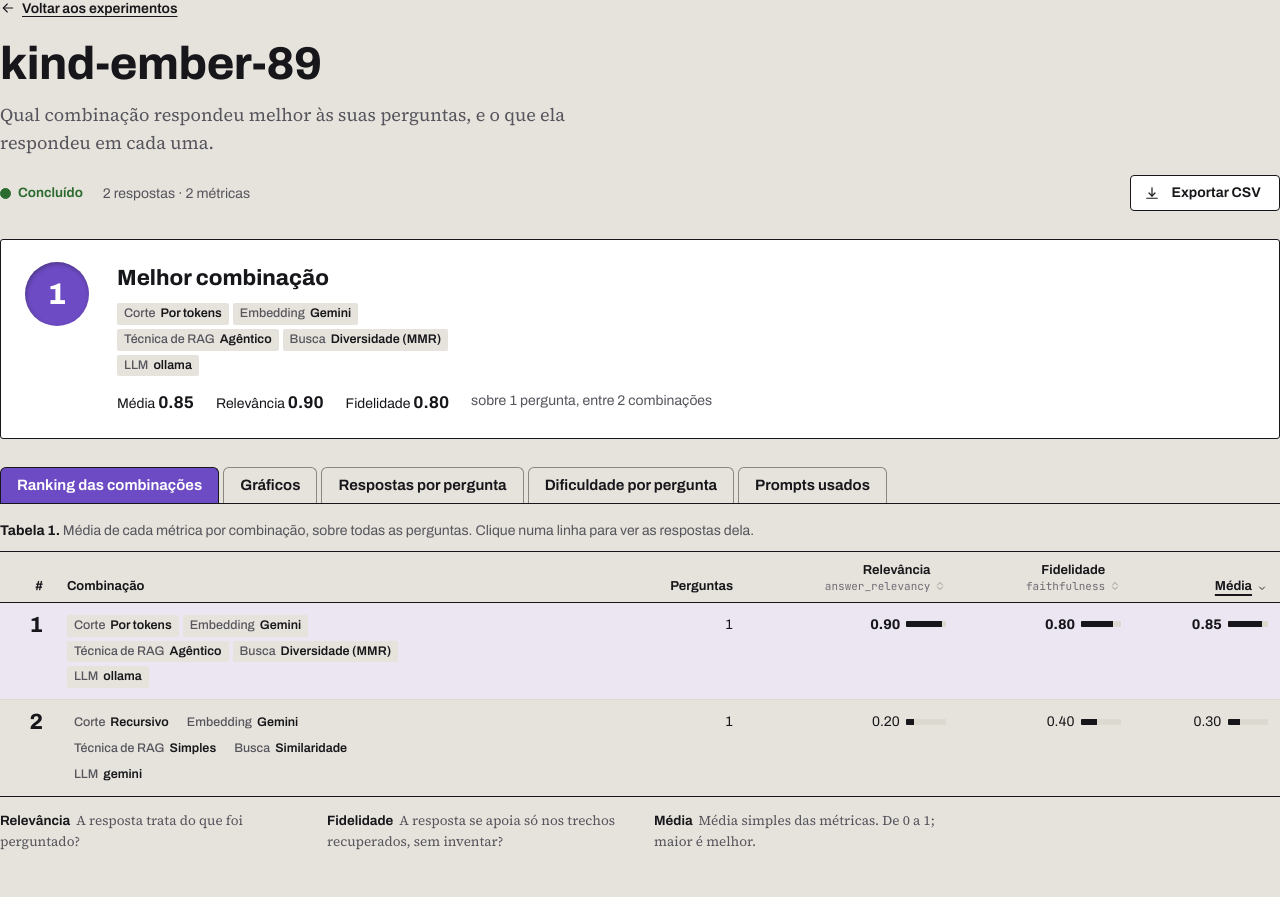
Test: ExperimentDetailPage › opens a drawer with full pergunta and resposta when a row is clicked
The image size is (1280, 897).
Click the tab "Respostas por pergunta" at (422, 485), box [321,467,524,503]
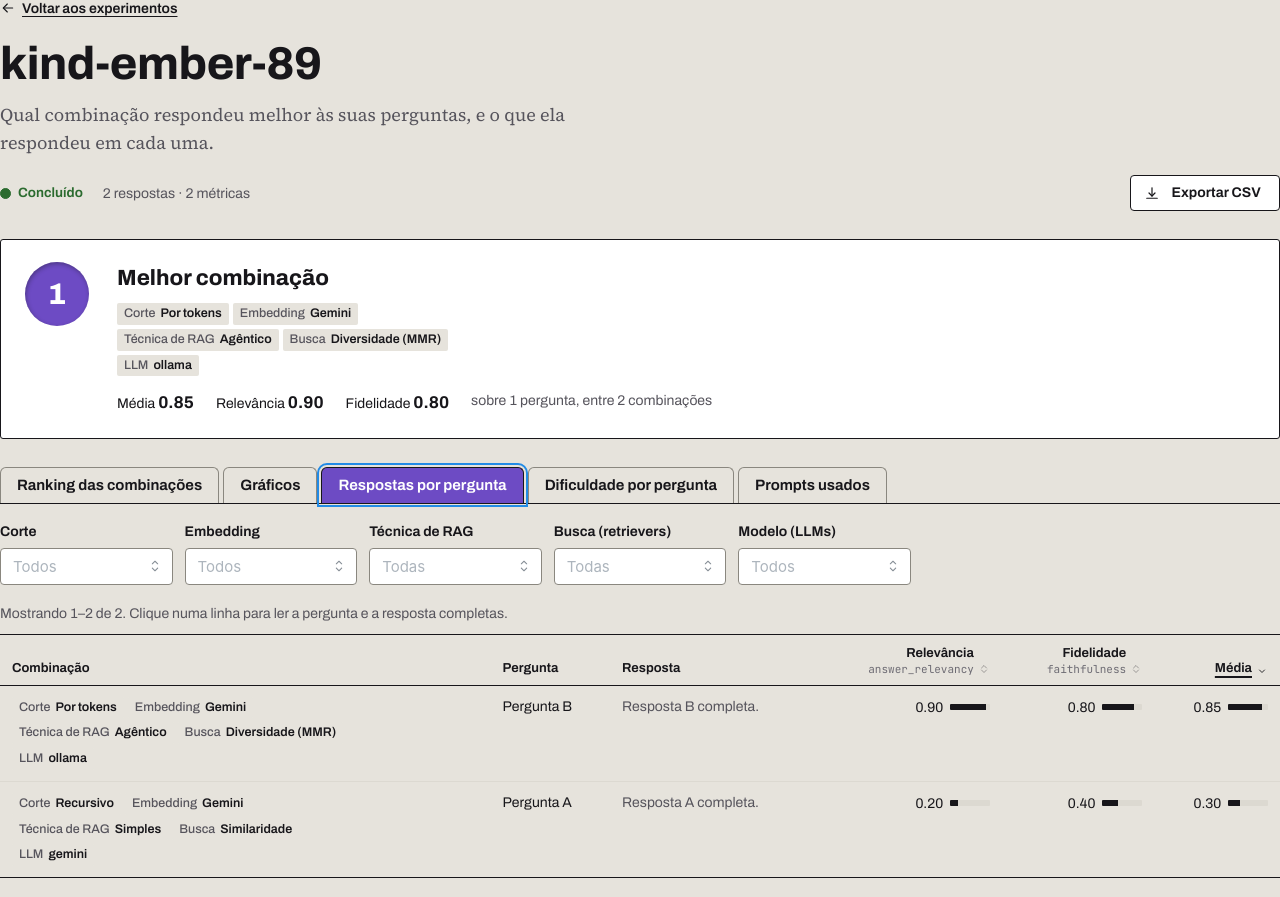
Click the button "Pergunta A" at (537, 803), box [503,793,572,812]
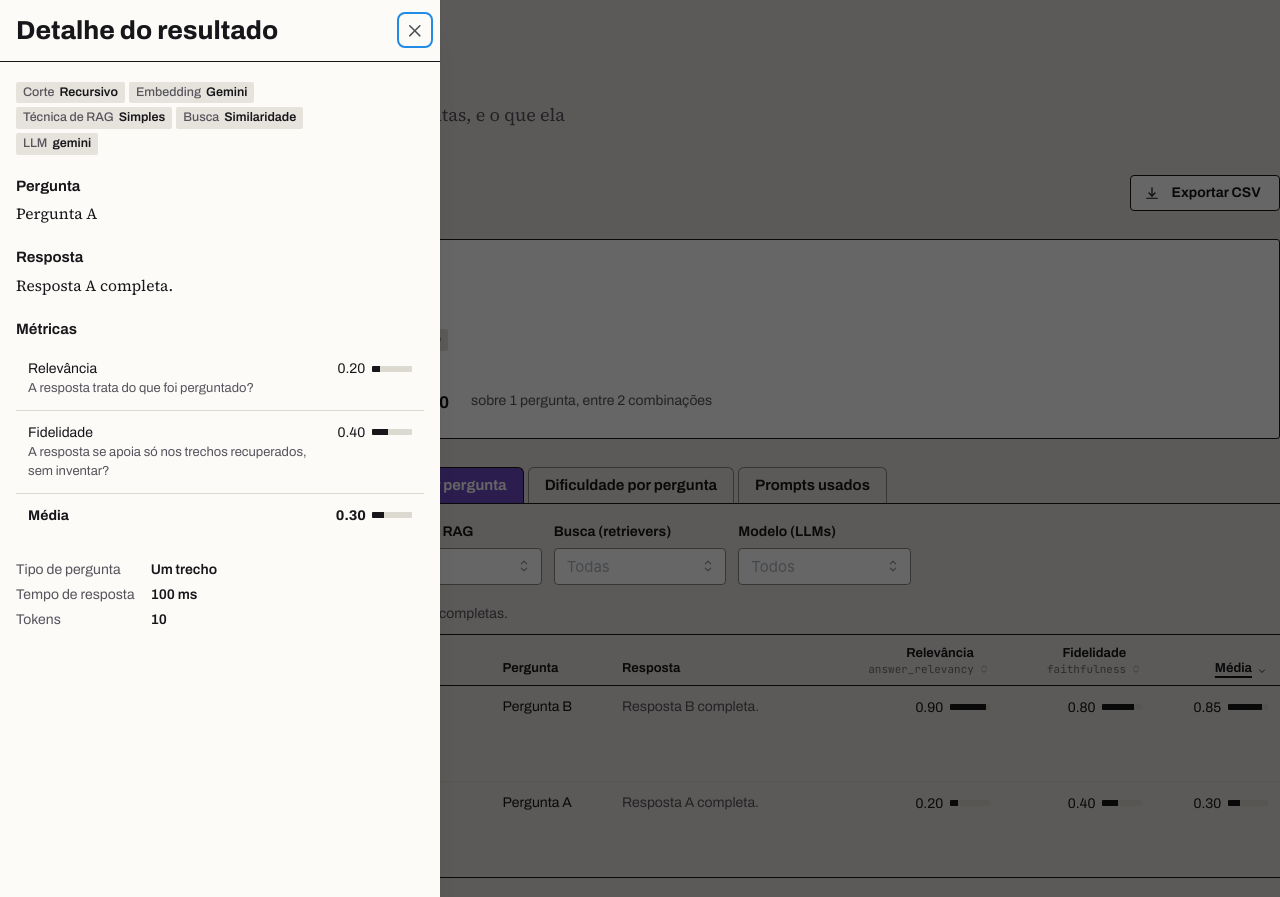
Check: the heading "Detalhe do resultado" is shown, box [16,16,278,45]
Check: the text "100 ms" is shown, box [151,587,197,602]
